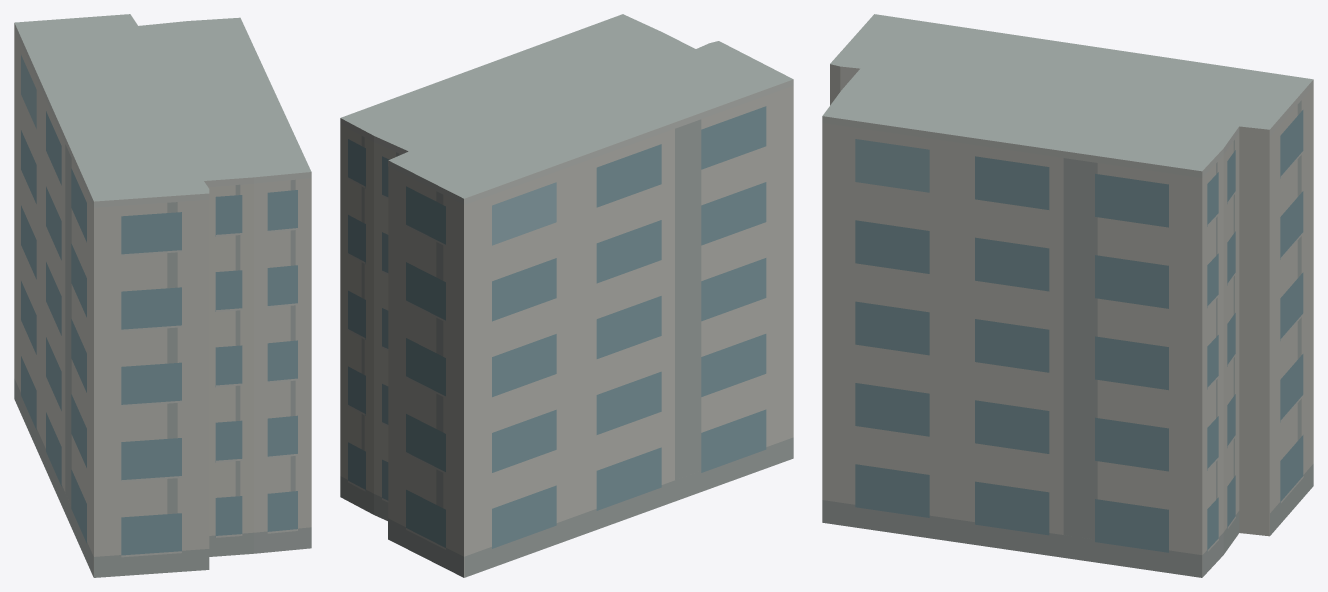
Rendered from survey-upis-33035244.glb.
The picture shows the model from 3 angles, left to right: view 1: azimuth 30°, elevation 25°; view 2: azimuth 150°, elevation 25°; view 3: azimuth 270°, elevation 25°; orthographic projection. The views are drawn at different scales.
Parts seen in each view (by area): view 1: survey-upis-33035244.tmp; view 2: survey-upis-33035244.tmp; view 3: survey-upis-33035244.tmp.
Part boxes in pixels (x1=…): survey-upis-33035244.tmp: x1=14, y1=14, x2=311, y2=577; survey-upis-33035244.tmp: x1=340, y1=14, x2=793, y2=577; survey-upis-33035244.tmp: x1=822, y1=14, x2=1313, y2=577.
Bounding box in the file's own units: 12 × 14.45 × 15.84.
